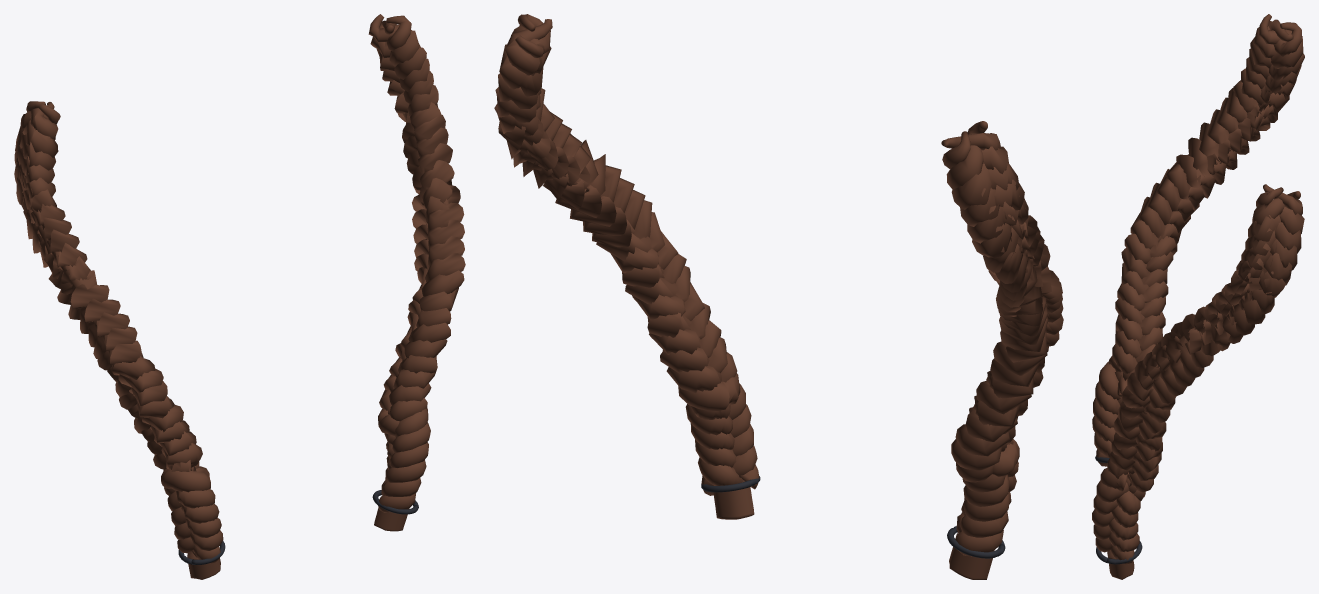
File: Feminine-twin-braids-open-pashmina-lengths251.glb
3 renders of one model, left to right at view 1: azimuth 30°, elevation 25°; view 2: azimuth 150°, elevation 25°; view 3: azimuth 270°, elevation 25°, orthographic. The views are drawn at different scales.
Visible parts, largest first — view 1: 226 hairLengths / Hair / chestnut226, 226 hairLengths / Hair / ties226; view 2: 226 hairLengths / Hair / chestnut226, 226 hairLengths / Hair / ties226; view 3: 226 hairLengths / Hair / chestnut226, 226 hairLengths / Hair / ties226.
Part boxes in pixels (<box>): 226 hairLengths / Hair / chestnut226: <box>14,14,465,579</box>; 226 hairLengths / Hair / ties226: <box>178,490,418,564</box>; 226 hairLengths / Hair / chestnut226: <box>494,14,1063,579</box>; 226 hairLengths / Hair / ties226: <box>701,476,1005,558</box>; 226 hairLengths / Hair / chestnut226: <box>1092,14,1304,579</box>; 226 hairLengths / Hair / ties226: <box>1095,455,1142,564</box>.
Bounding box in the file's own units: 1.03 × 1.05 × 0.4743.
